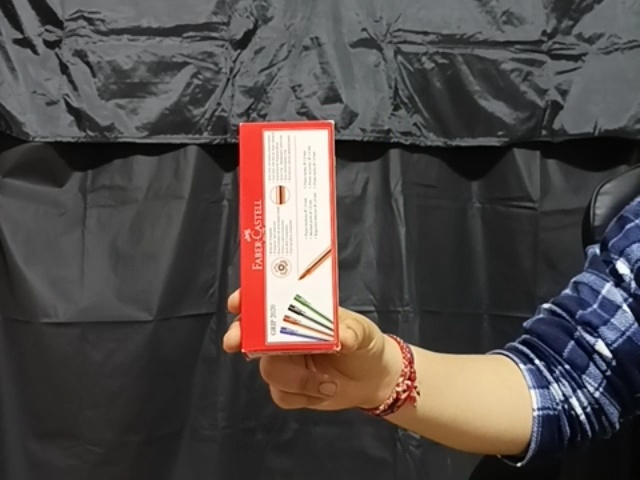xd: (236, 118, 343, 354)
